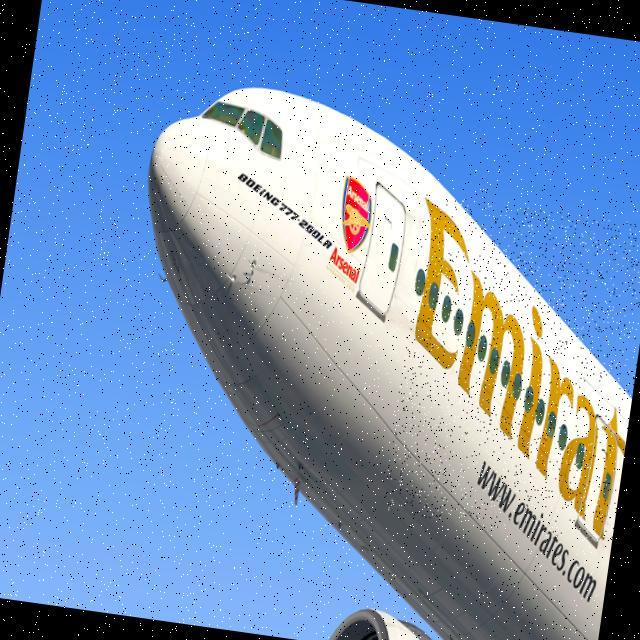Emirates: (382, 193, 640, 543)
